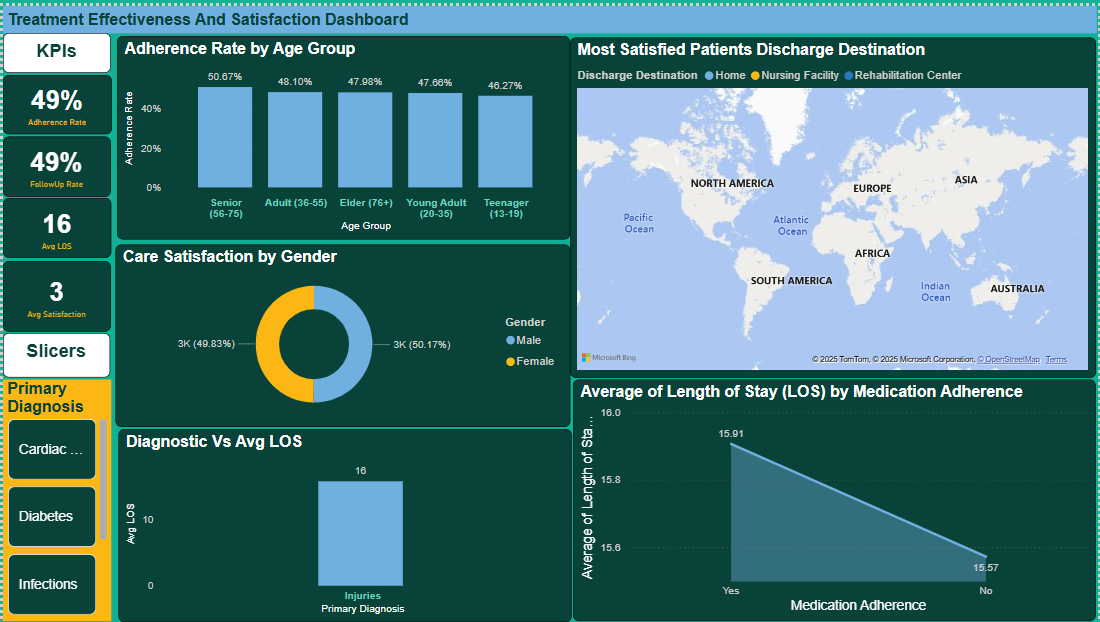

The page's visual inventory and layout, read from the dashboard file:
{"tool":"powerbi","page":{"name":"Treatment Effective Page","canvas":[1280,720],"ordinal":1},"visuals":[{"type":"donutChart","title":"Care Satisfaction by Gender","fields":{"Y":["Sum(Health Care.Care Satisfaction)"],"Category":["Health Care.Gender"]},"box":[132.1,279.2,532.1,213.2],"z":0},{"type":"clusteredColumnChart","fields":{"Y":["Health Care.Adherence Rate"],"Category":["Health Care.Age Category.Age Group"]},"box":[134,35.8,530.2,237.7],"z":1000},{"type":"advancedSlicerVisual","fields":{"Values":["Health Care.Primary Diagnosis"]},"box":[0,436.5,126.9,282.7],"z":2000},{"type":"card","fields":{"Values":["Health Care.Adherence Rate"]},"box":[0,80.7,127.3,69.3],"z":3000},{"type":"card","fields":{"Values":["Health Care.FollowUp Rate"]},"box":[0,152.3,126.1,70.5],"z":4000},{"type":"card","fields":{"Values":["Health Care.Avg LOS"]},"box":[0,224.5,126.4,69.8],"z":5000},{"type":"card","fields":{"Values":["Health Care.Avg Satisfaction"]},"box":[0,297.8,126.1,82.6],"z":6000},{"type":"textbox","box":[0,0,1279.2,32.1],"z":7000},{"type":"textbox","box":[0,31.8,126.1,46.6],"z":8000},{"type":"textbox","box":[0,382.7,125,51.9],"z":9000},{"type":"columnChart","title":"Diagnostic Vs Avg LOS  ","fields":{"Y":["Health Care.Avg LOS"],"Category":["Health Care.Primary Diagnosis"]},"box":[134.6,494.2,530,226],"z":10000},{"type":"areaChart","fields":{"Category":["Health Care.Medication Adherence"],"Y":["Avg(Health Care.Length of Stay (LOS))"]},"box":[667.3,436.5,611.5,282.7],"z":11000},{"type":"filledMap","title":"Most Satisfied Patients Discharge Destination","fields":{"Series":["Health Care.Discharge Destination"]},"box":[663.5,36.5,615.4,398.1],"z":12000}]}

Visuals, with their boxes in screenshot pixels (x1, y1, x2, y2), scaled from the page's 1280x720 canvas onto the 1100x622 screenshot:
"Care Satisfaction by Gender" donutChart: l=114, t=241, r=571, b=425
clusteredColumnChart - Health Care.Adherence Rate x Health Care.Age Category.Age Group: l=115, t=31, r=571, b=236
advancedSlicerVisual - Health Care.Primary Diagnosis: l=0, t=377, r=109, b=621
card - Health Care.Adherence Rate: l=0, t=70, r=109, b=130
card - Health Care.FollowUp Rate: l=0, t=132, r=108, b=192
card - Health Care.Avg LOS: l=0, t=194, r=109, b=254
card - Health Care.Avg Satisfaction: l=0, t=257, r=108, b=329
textbox: l=0, t=0, r=1099, b=28
textbox: l=0, t=27, r=108, b=68
textbox: l=0, t=331, r=107, b=375
"Diagnostic Vs Avg LOS  " columnChart: l=116, t=427, r=571, b=621
areaChart - Health Care.Medication Adherence x Avg(Health Care.Length of Stay (LOS)): l=573, t=377, r=1099, b=621
"Most Satisfied Patients Discharge Destination" filledMap: l=570, t=32, r=1099, b=375
